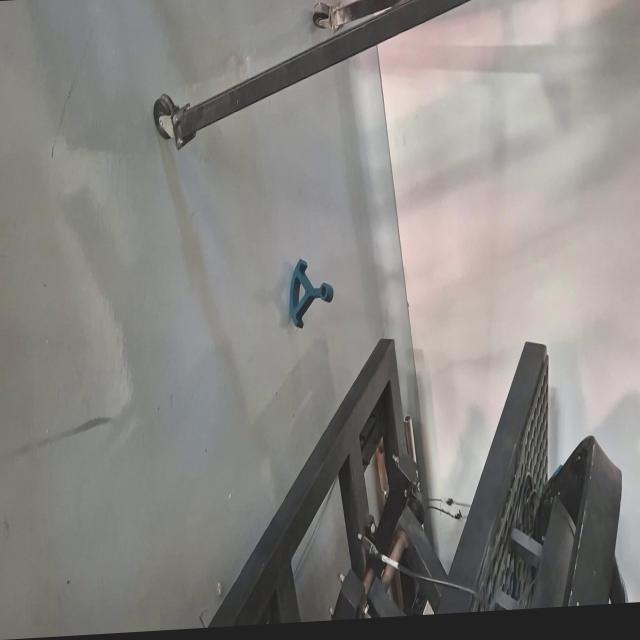haptic: (288, 255, 334, 329)
